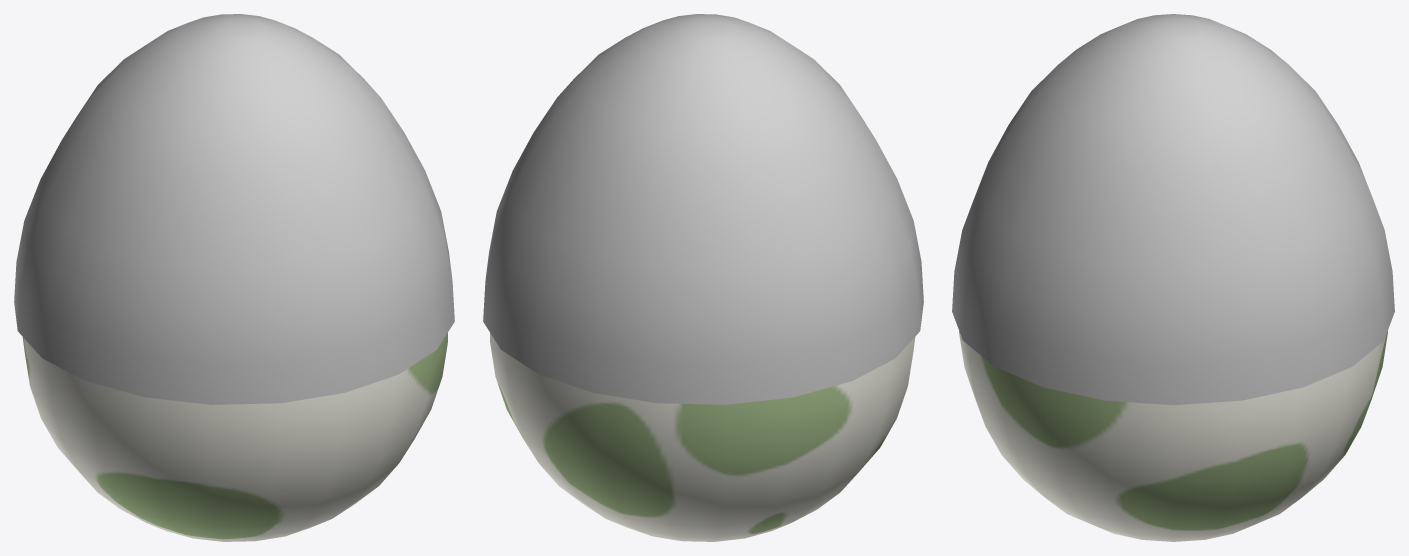
Rendered from Egg.fbx.
The picture shows the model from 3 angles, left to right: view 1: azimuth 30°, elevation 25°; view 2: azimuth 150°, elevation 25°; view 3: azimuth 270°, elevation 25°; orthographic projection.
Parts seen in each view (by area): view 1: Egg:Mesh; view 2: Egg:Mesh; view 3: Egg:Mesh.
Boxes of the visible parts, box(x1,y1,x2,y2) form: Egg:Mesh: box(14, 14, 454, 541); Egg:Mesh: box(483, 14, 923, 541); Egg:Mesh: box(952, 14, 1394, 541).
Bounding box in the file's own units: 2.37 × 2.91 × 2.37.
